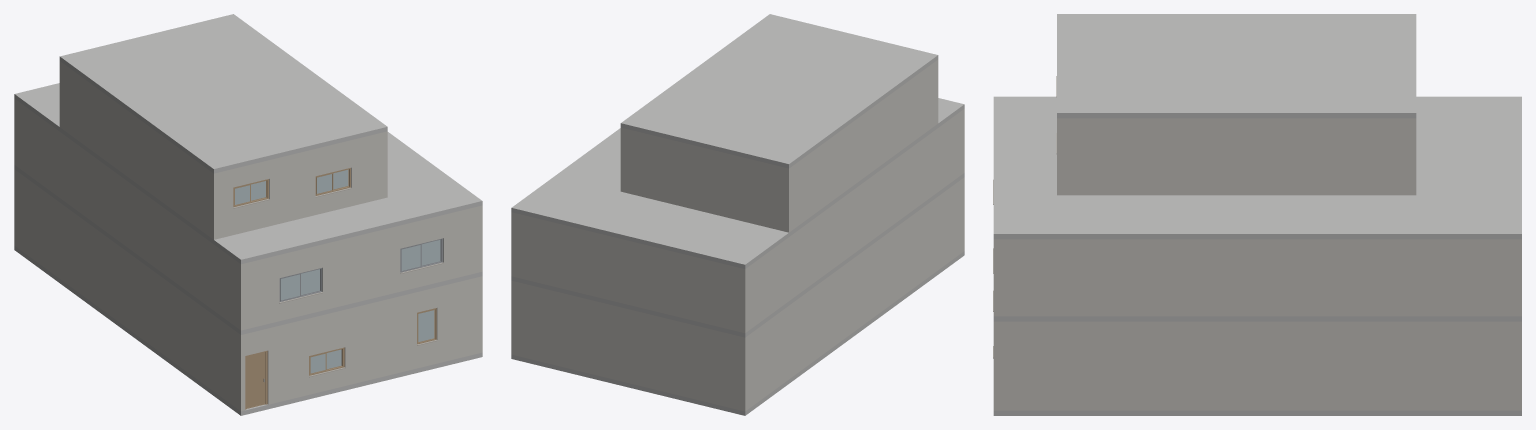
Rendered from site.glb.
The picture shows the model from 3 angles, left to right: view 1: azimuth 30°, elevation 25°; view 2: azimuth 150°, elevation 25°; view 3: azimuth 270°, elevation 25°; orthographic projection. The views are drawn at different scales.
Visible parts, largest first — view 1: level3/slab, level2/slab, floor2/wall2, floor1/wall5, floor2/wall0, floor1/wall0, floor2/wall1/1, floor3/wall4, floor3/wall0, floor1/wall2/2, floor1/wall3/1, floor3/wall3 (+16 smaller); view 2: level3/slab, level2/slab, floor2/wall1/1, floor2/wall2, floor1/wall5, floor1/wall0, floor2/wall0, floor1/wall2/2, floor1/wall3/1, floor3/wall4, floor3/wall0, floor3/wall2/1 (+6 smaller); view 3: level2/slab, level3/slab, floor2/wall1/1, floor2/wall2, floor1/wall5, floor2/wall0, floor1/wall0, floor1/wall2/2, floor1/wall3/1, floor3/wall4, floor3/wall0, floor3/wall2/1 (+6 smaller).
Boxes of the visible parts, box(x1,y1,x2,y2) form: level3/slab: box(59, 14, 387, 173); level2/slab: box(14, 83, 482, 264); floor2/wall2: box(14, 98, 482, 287); floor1/wall5: box(14, 169, 482, 355); floor2/wall0: box(14, 147, 482, 330); floor1/wall0: box(14, 228, 482, 411); floor2/wall1/1: box(14, 122, 482, 312); floor3/wall4: box(59, 61, 387, 192); floor3/wall0: box(59, 110, 387, 239); floor1/wall2/2: box(14, 207, 482, 388); floor1/wall3/1: box(14, 191, 482, 372); floor3/wall3: box(59, 80, 387, 200); level3/slab: box(620, 14, 938, 168); level2/slab: box(511, 98, 964, 268); floor2/wall1/1: box(511, 131, 964, 315); floor2/wall2: box(511, 109, 964, 291); floor1/wall5: box(511, 177, 964, 357); floor1/wall0: box(511, 234, 964, 411); floor2/wall0: box(511, 156, 964, 332); floor1/wall2/2: box(511, 213, 964, 389); floor1/wall3/1: box(511, 198, 964, 373); floor3/wall4: box(620, 59, 938, 186); floor3/wall0: box(620, 106, 938, 232); floor3/wall2/1: box(620, 86, 938, 206); level2/slab: box(993, 96, 1521, 239); level3/slab: box(1057, 14, 1416, 118); floor2/wall1/1: box(993, 266, 1521, 295); floor2/wall2: box(993, 239, 1521, 266); floor1/wall5: box(993, 321, 1521, 345); floor2/wall0: box(993, 295, 1521, 316); floor1/wall0: box(993, 390, 1521, 410); floor1/wall2/2: box(993, 365, 1521, 384); floor1/wall3/1: box(993, 347, 1521, 365); floor3/wall4: box(1057, 118, 1416, 139); floor3/wall0: box(1057, 174, 1416, 195); floor3/wall2/1: box(1057, 150, 1416, 164).
Size of the model in its own units: 10 by 8.98 by 16.27.
